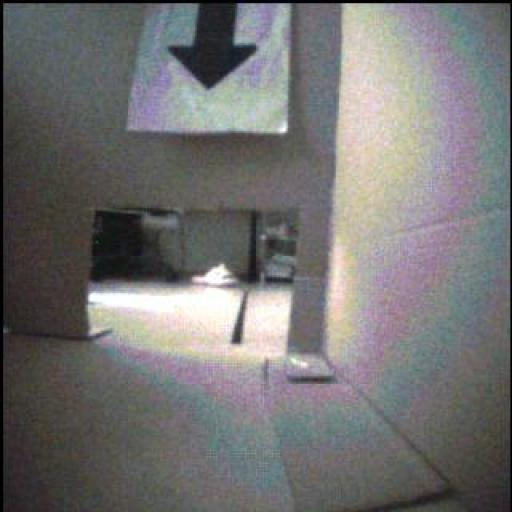arrow: (169, 4, 259, 89)
